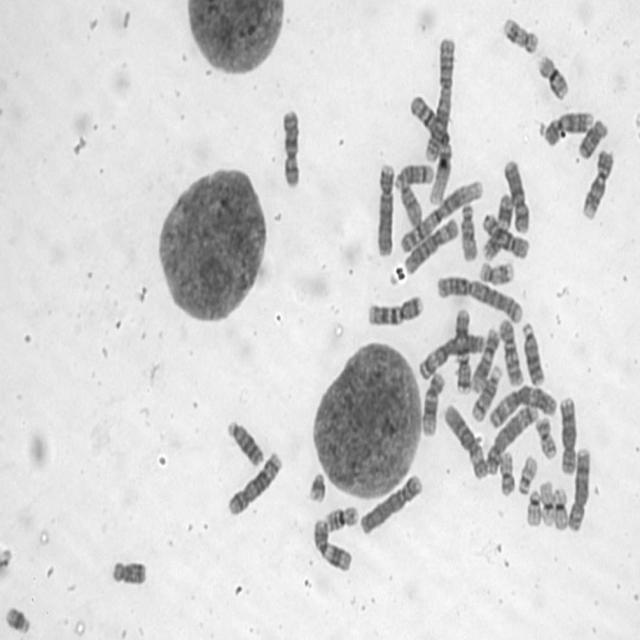A1: (396, 177, 485, 255), (408, 92, 453, 208)
A2: (433, 271, 524, 324), (422, 34, 457, 163)
A3: (486, 382, 559, 431), (416, 332, 487, 382)
B4: (357, 469, 424, 536), (374, 160, 396, 258)
B5: (225, 448, 283, 517), (484, 402, 539, 474)
C10: (480, 209, 530, 261), (496, 315, 524, 388)
C11: (480, 191, 515, 261), (311, 516, 353, 574)
C12: (470, 323, 500, 392), (419, 369, 446, 437)
C6: (441, 400, 488, 480), (401, 215, 460, 276)
C7: (366, 291, 424, 327), (452, 304, 472, 394)
C8: (566, 444, 592, 532), (557, 393, 577, 475)
C9: (578, 145, 616, 220), (543, 110, 594, 148)
D13: (224, 417, 264, 467), (519, 319, 545, 386)
D14: (469, 362, 502, 422), (392, 160, 434, 192)
D15: (397, 180, 423, 228), (459, 200, 478, 262)
E16: (536, 51, 569, 102), (322, 502, 361, 532)
E17: (501, 15, 539, 54), (477, 258, 515, 286)
E18: (576, 115, 608, 160), (110, 556, 147, 586)
F19: (538, 478, 556, 528), (551, 484, 569, 530)
F20: (534, 414, 558, 461), (498, 448, 516, 496)
G21: (2, 603, 32, 635), (305, 467, 328, 503)
G22: (515, 452, 539, 496), (524, 486, 542, 527)
X: (501, 155, 531, 236), (278, 105, 303, 193)
